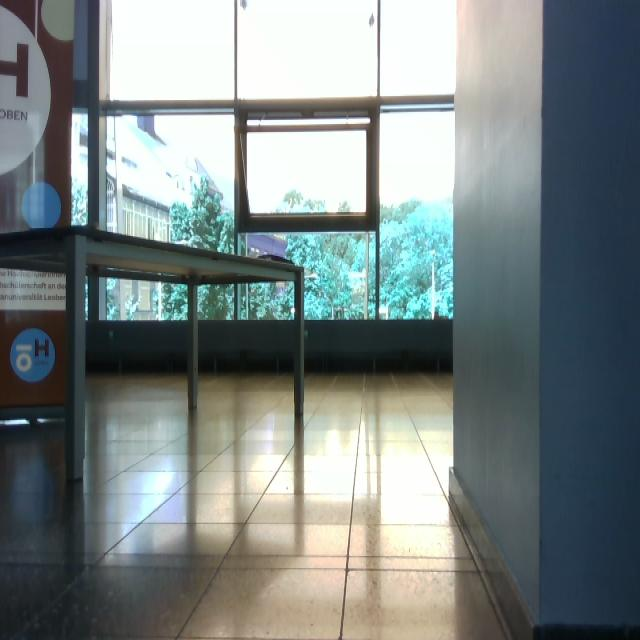door: (1, 264, 68, 409)
light bulb: (21, 181, 62, 229), (240, 1, 248, 10), (290, 308, 296, 314)
pillar: (450, 1, 640, 638)
table: (2, 225, 310, 485)
tiled floor: (1, 369, 513, 638)
window: (86, 1, 458, 326)
